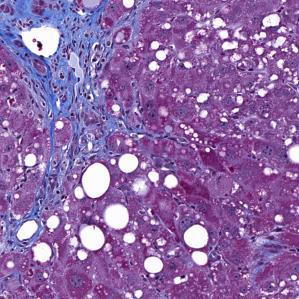fibrosis: (19, 48, 120, 198)
